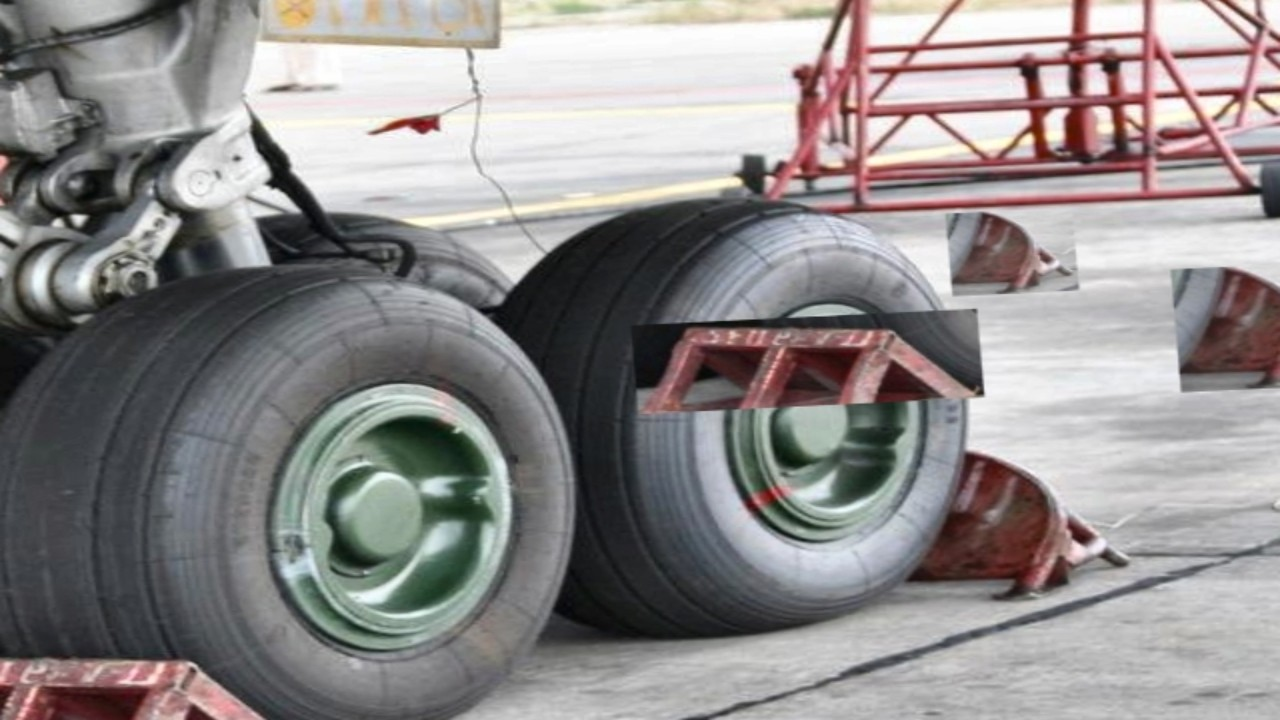chock: (898, 444, 1141, 605), (631, 309, 985, 414), (0, 632, 323, 720), (1171, 261, 1280, 392), (945, 207, 1079, 296)
wheel: (0, 250, 611, 720), (514, 184, 993, 643), (241, 204, 515, 313)
